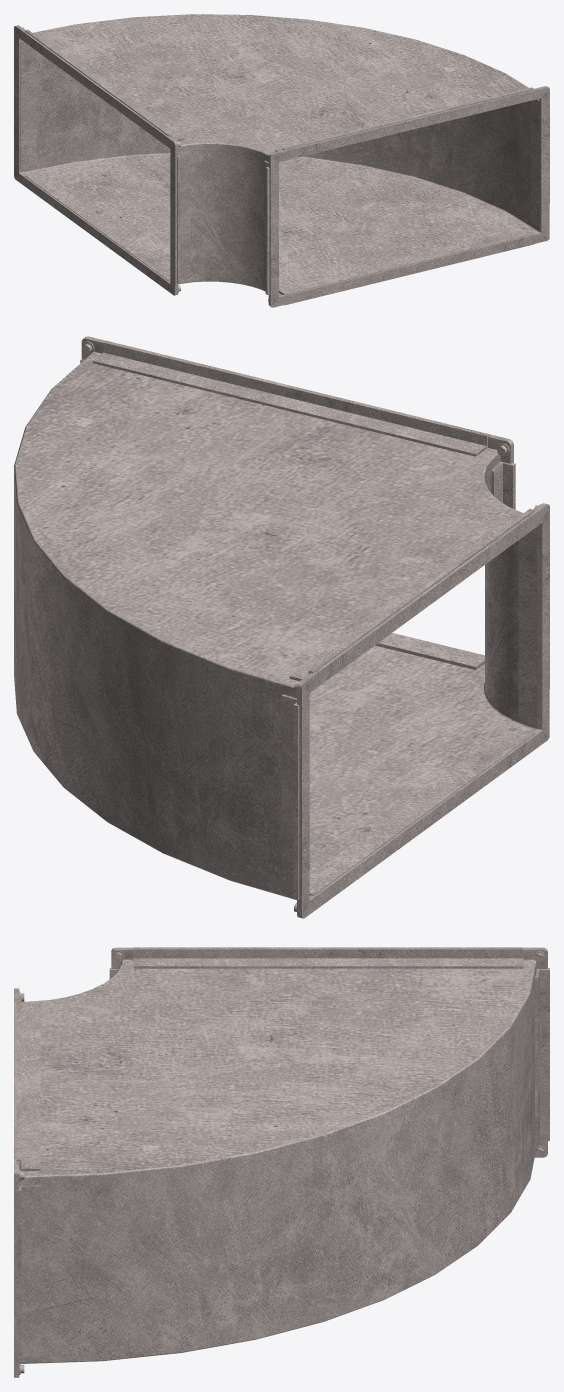
The model's file is SM_Square_Ducting_02j.glb.
3 views of the same model, one above another, from view 1: azimuth 30°, elevation 25°; view 2: azimuth 150°, elevation 25°; view 3: azimuth 270°, elevation 25° (orthographic). The views are drawn at different scales.
Visible parts, largest first — view 1: SM_Square_Ducting_02j; view 2: SM_Square_Ducting_02j; view 3: SM_Square_Ducting_02j.
Boxes of the visible parts, x1,y1,x2,y2 form: SM_Square_Ducting_02j: (14,14,549,307); SM_Square_Ducting_02j: (14,336,549,918); SM_Square_Ducting_02j: (14,947,549,1377).
Bounding box in the file's own units: 0.9565 × 0.4203 × 0.9678.
Materials: 1 (1 with a texture image).
